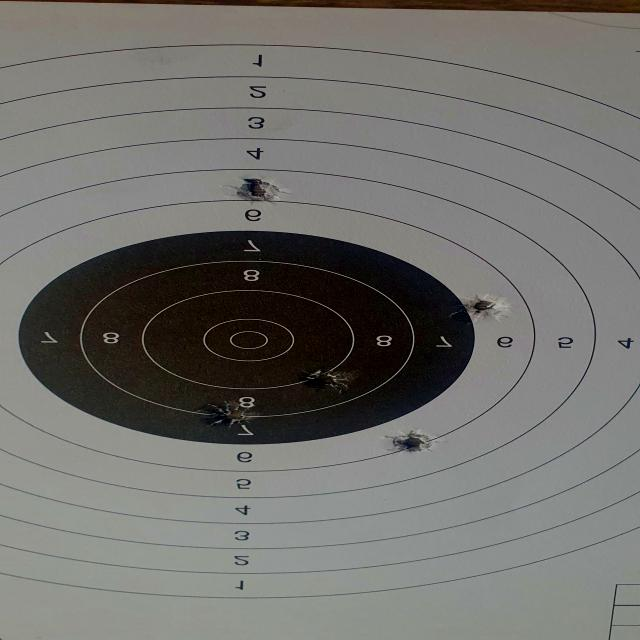6: (223, 178, 290, 206), (385, 429, 444, 455)
7: (451, 293, 513, 324)
8: (198, 402, 260, 429)
9: (295, 368, 358, 393)
Target: (0, 43, 640, 600)
black_contour: (19, 231, 476, 444)
